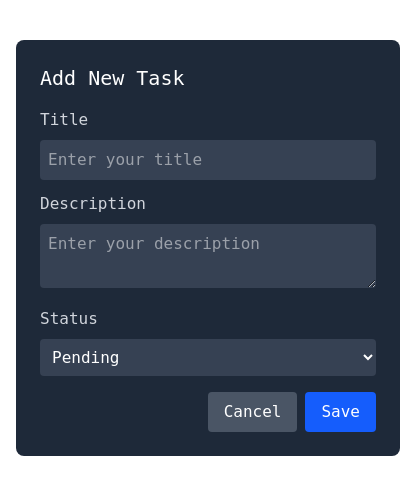
Test case: TaskForm › should show validation error if required fields are empty
The width and height of the screenshot is (417, 497).
Click the button "Save".
click(341, 412)  # box [306, 392, 376, 432]
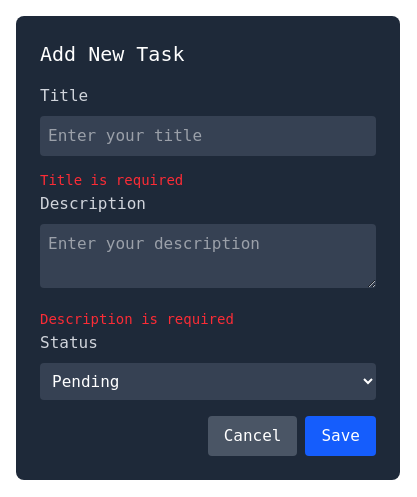
Expected: the text "Title is required" is shown, [40, 172, 183, 188]
Expected: the text "Description is required" is shown, [40, 311, 234, 327]
